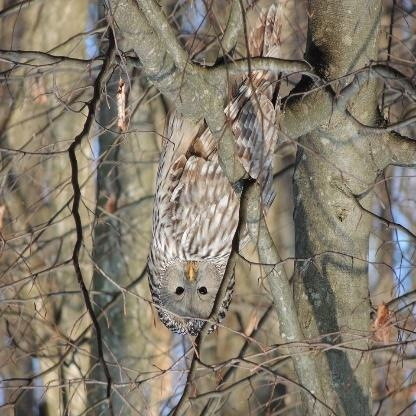Owl: (149, 76, 272, 332)
